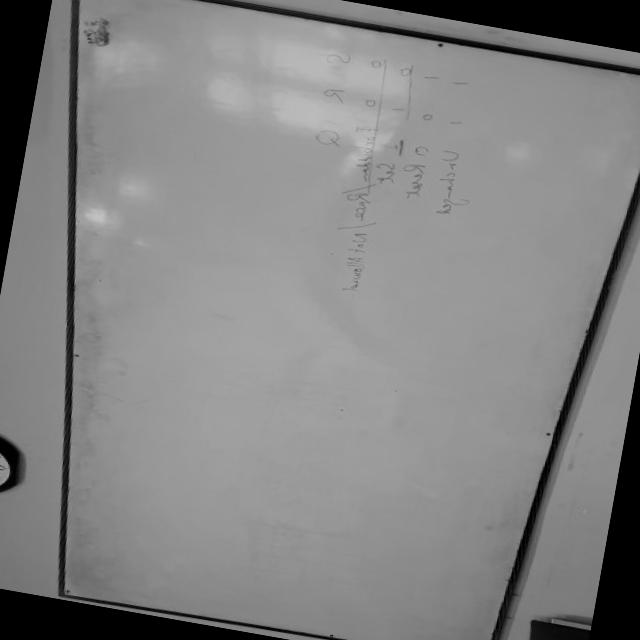White-board: (61, 0, 640, 640)
